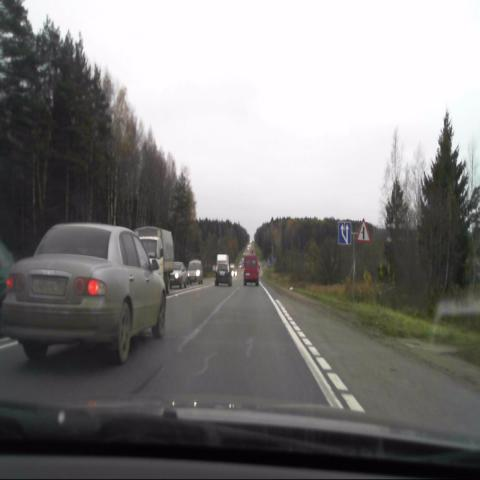2_3_3: (356, 219, 370, 242)
5_15_3: (338, 220, 352, 244)
